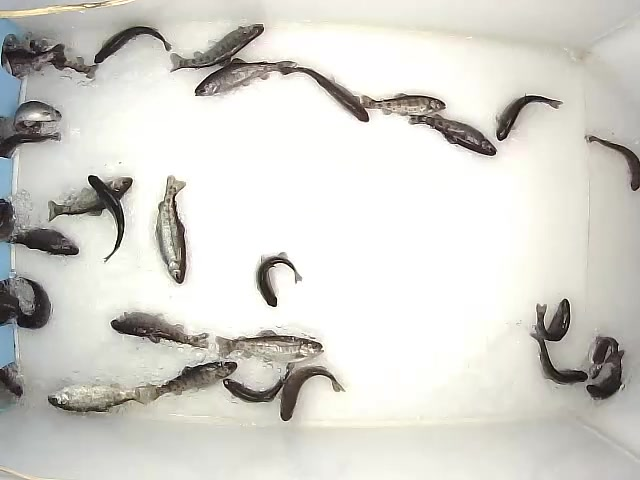fish: (168, 22, 265, 73), (294, 66, 370, 123), (194, 57, 298, 98), (408, 111, 498, 157), (147, 360, 238, 404), (47, 176, 134, 222), (110, 311, 210, 351), (154, 175, 189, 286), (215, 329, 325, 364), (280, 365, 346, 422), (529, 326, 589, 385), (87, 175, 125, 266), (495, 93, 564, 141), (585, 132, 640, 192), (46, 383, 149, 414), (93, 25, 173, 64), (222, 362, 296, 404), (29, 36, 99, 79), (255, 251, 303, 307), (1, 228, 80, 258), (11, 276, 52, 332), (361, 92, 447, 118), (586, 349, 625, 401), (13, 100, 63, 132), (536, 298, 571, 342), (590, 334, 619, 380)
